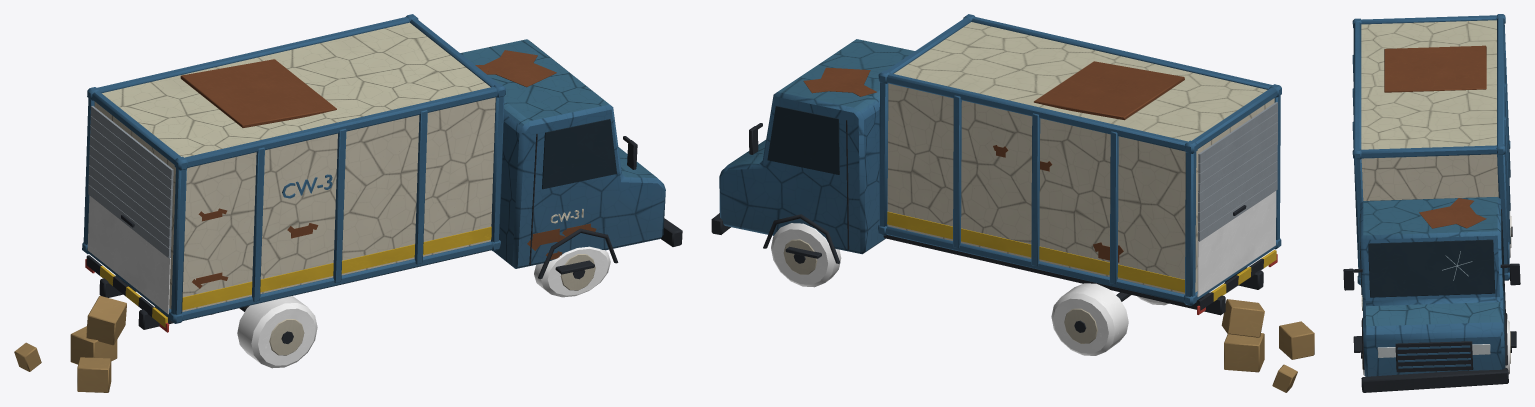
Rendered from delivery_truck_wreck.glb.
3 renders of one model, left to right at view 1: azimuth 30°, elevation 25°; view 2: azimuth 150°, elevation 25°; view 3: azimuth 270°, elevation 25°, orthographic. The views are drawn at different scales.
Visible parts, largest first — view 1: delivery_truck_wreck; view 2: delivery_truck_wreck; view 3: delivery_truck_wreck.
Part boxes in pixels (x1,y1,x2,y2): delivery_truck_wreck: (14, 14, 682, 392); delivery_truck_wreck: (711, 14, 1314, 392); delivery_truck_wreck: (1343, 14, 1520, 392).
Size of the model in its own units: 8.8 by 3.51 by 2.77.
20 materials, 20 textured.
